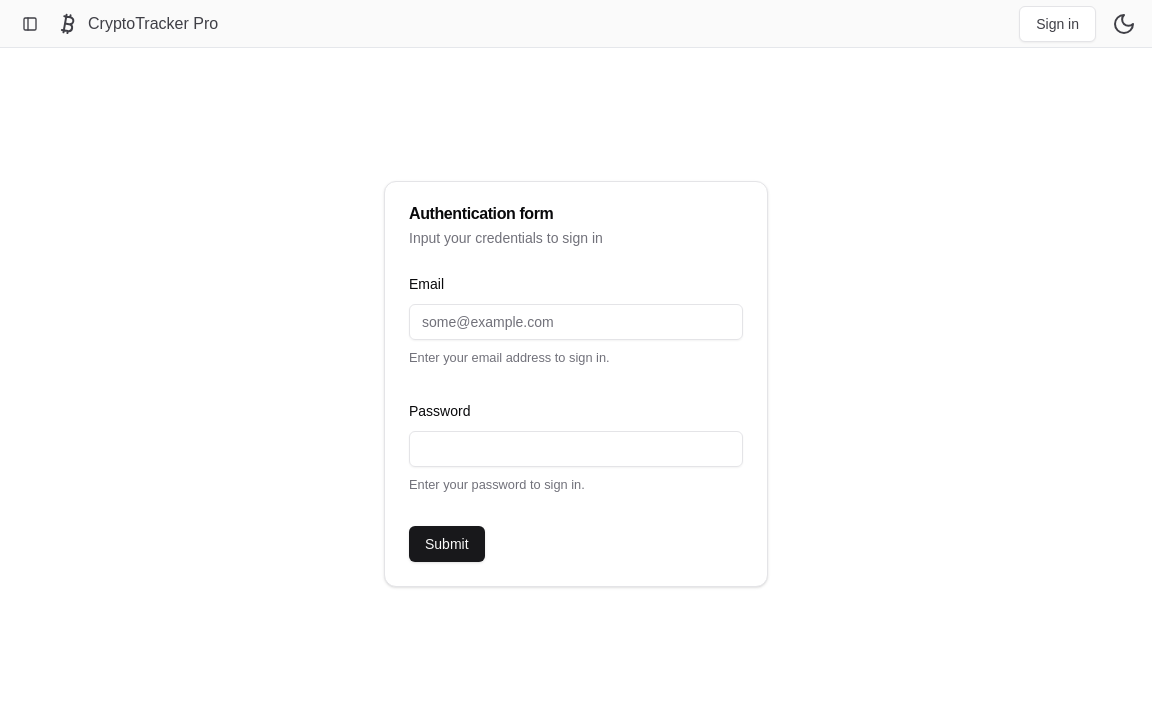
Signin page › should handle sign in process correctly
This screenshot has width=1152, height=720.
In the field named "email": (576, 322) x1=409 y1=304 x2=743 y2=340, type "john@example.com"
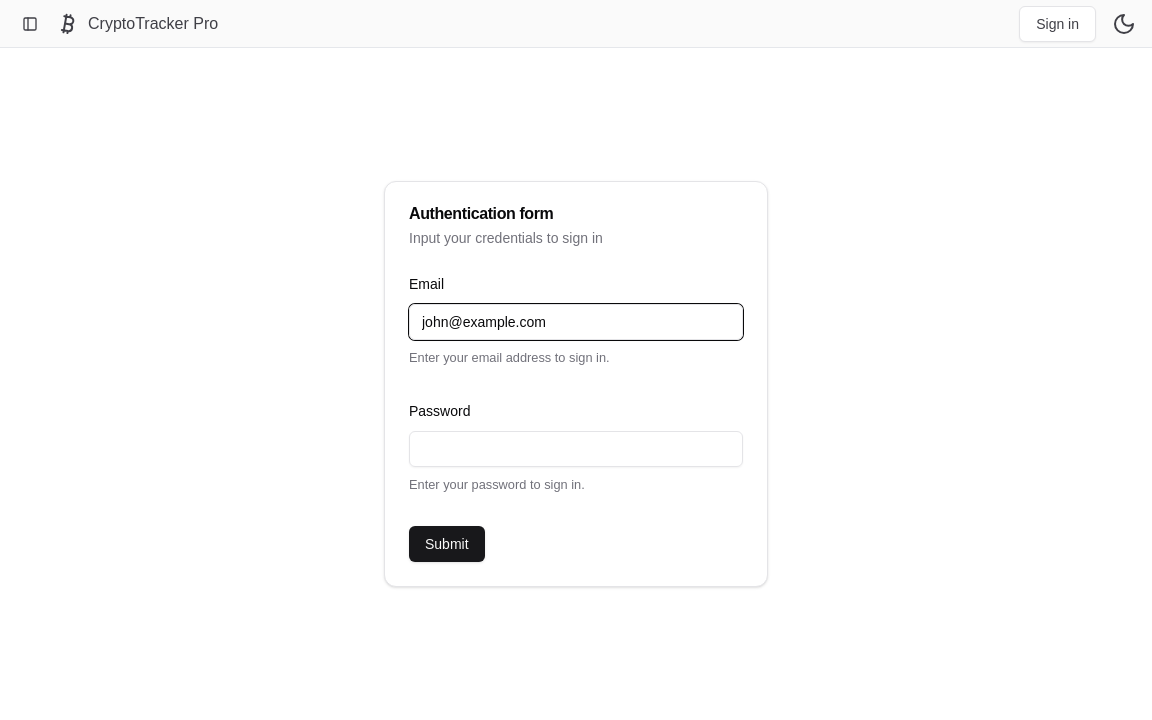
In the password field named "password": (576, 449) x1=409 y1=431 x2=743 y2=467, type "password123"
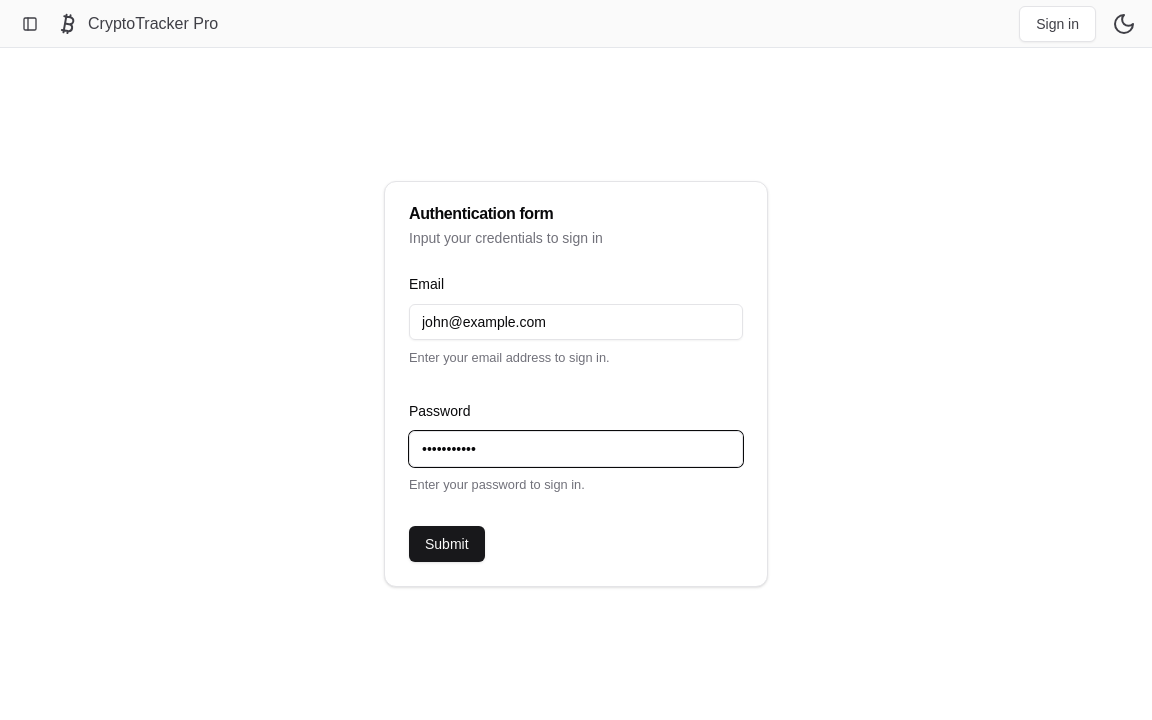
Submit the form, box x1=409 y1=272 x2=743 y2=562
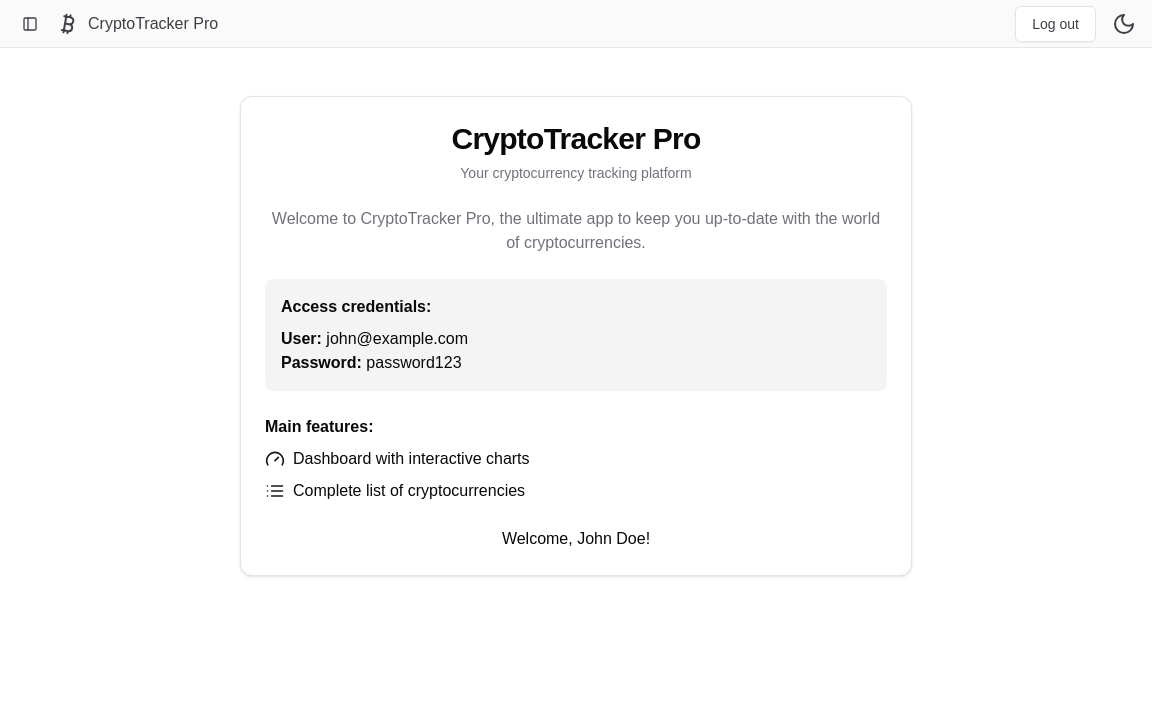
Check: the text "Welcome, John Doe!" is shown, box x1=502 y1=530 x2=650 y2=547
